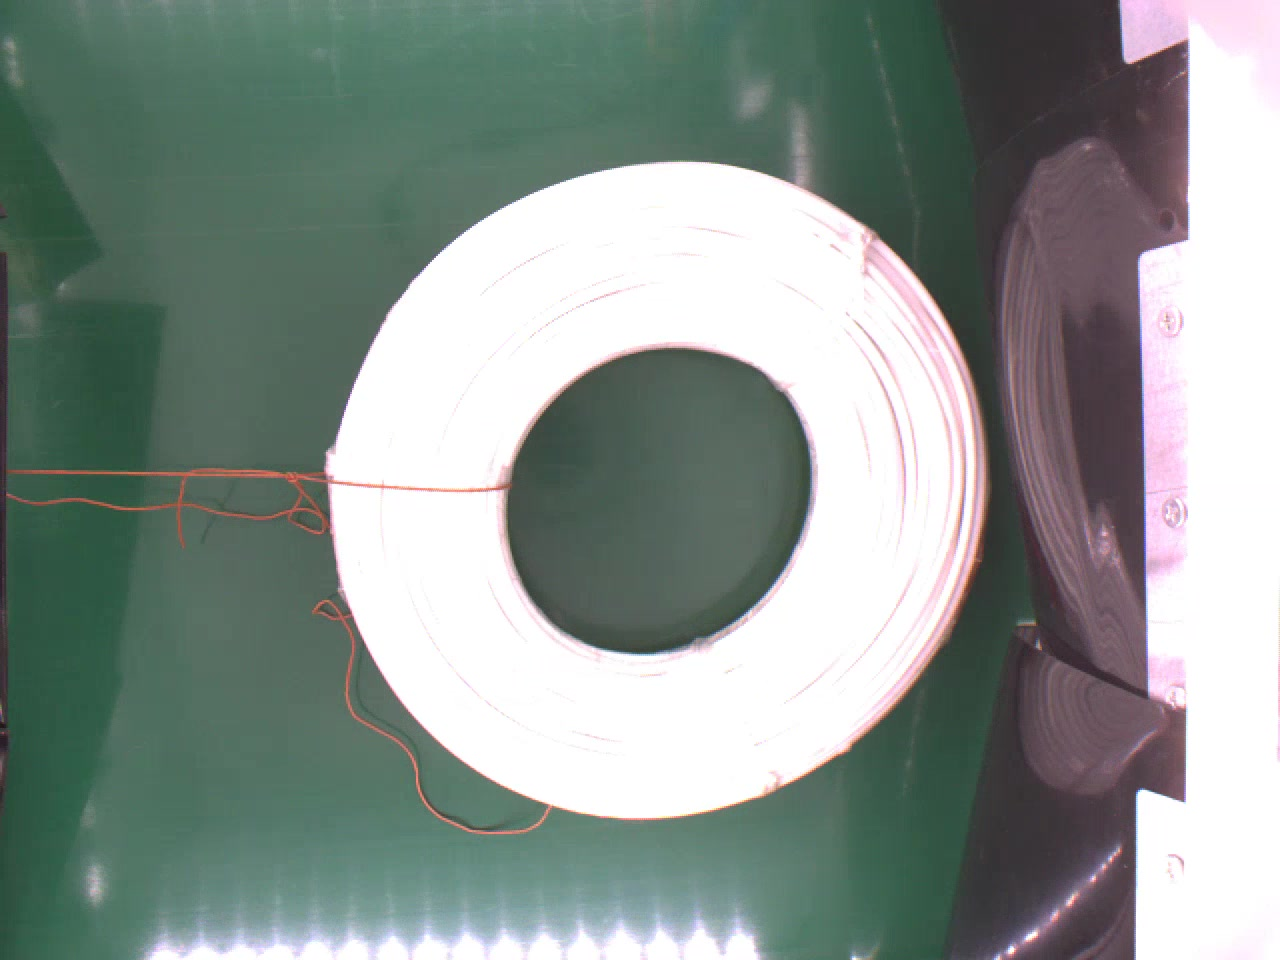white: (322, 154, 991, 825)
